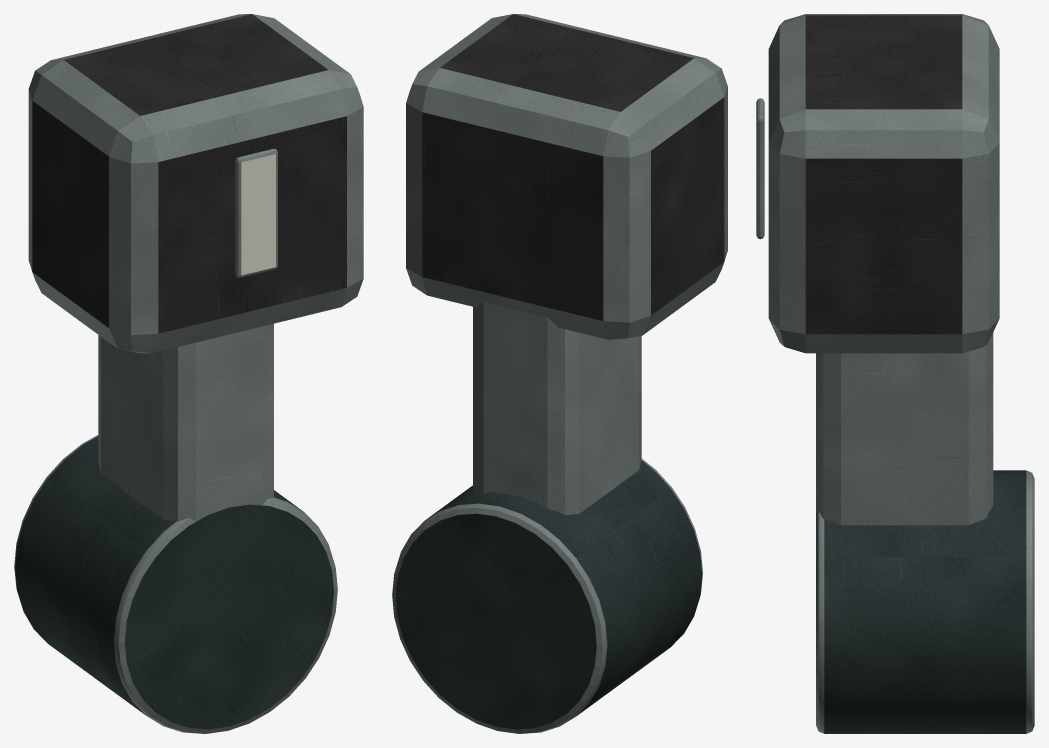
The model's file is AUX_Handle.fbx.
3 renders of one model, left to right at view 1: azimuth 30°, elevation 25°; view 2: azimuth 150°, elevation 25°; view 3: azimuth 270°, elevation 25°, orthographic. The views are drawn at different scales.
Visible parts, largest first — view 1: AUX_Handle__Visual; view 2: AUX_Handle__Visual; view 3: AUX_Handle__Visual.
Part boxes in pixels (x1=…): AUX_Handle__Visual: x1=14, y1=14, x2=363, y2=733; AUX_Handle__Visual: x1=392, y1=14, x2=727, y2=733; AUX_Handle__Visual: x1=756, y1=14, x2=1034, y2=733.
Size of the model in its own units: 0.072 by 0.1765 by 0.0675.
4 materials, 3 textured.
